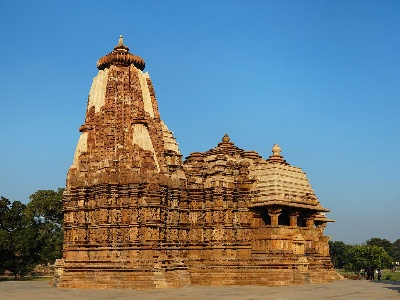amalaka: (88, 44, 155, 74)
gopuram: (67, 65, 179, 178)
mandapa: (243, 191, 338, 255)
